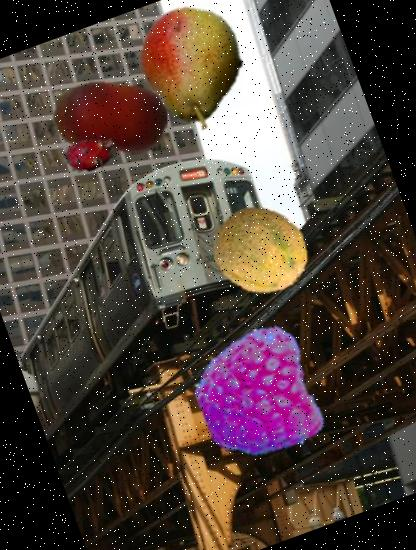Cantaloupe: (198, 188, 324, 314)
Nectarine: (37, 44, 184, 191)
Pear: (112, 0, 270, 145)
Pitahaya: (54, 119, 124, 188)
Raspberry: (176, 315, 336, 475)
